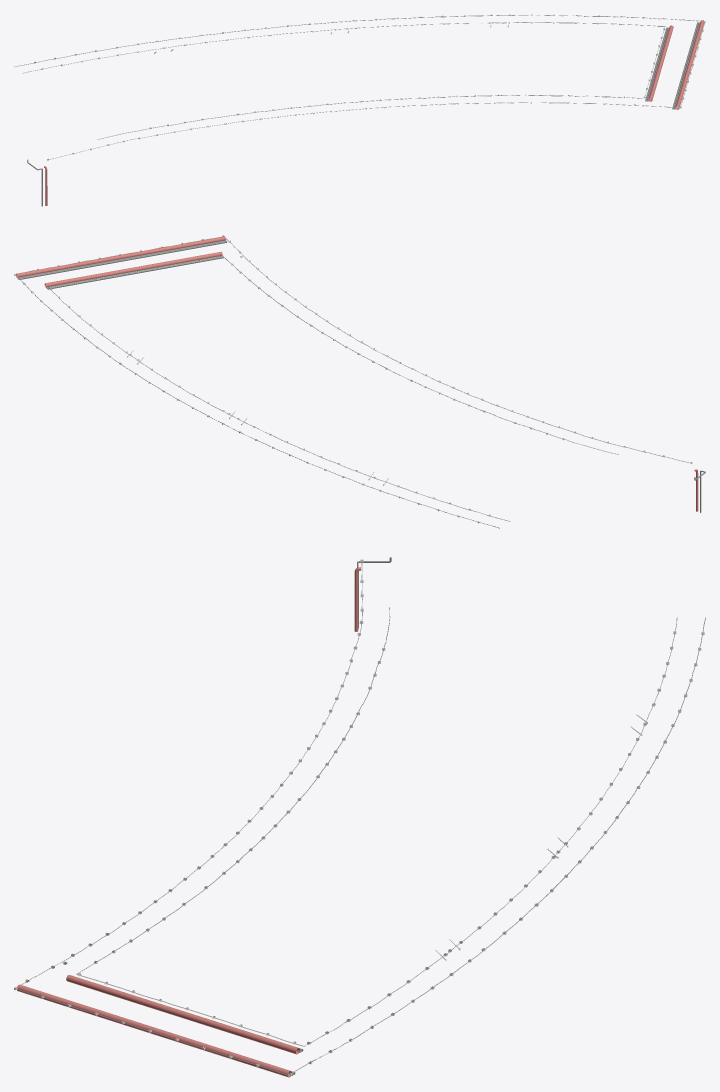
3 renders of one model, top to bottom at view 1: azimuth 30°, elevation 25°; view 2: azimuth 150°, elevation 25°; view 3: azimuth 270°, elevation 25°, orthographic. The views are drawn at different scales.
Visible parts, largest first — view 1: SM_H_Building_FutureTech_Aerospace_02C; view 2: SM_H_Building_FutureTech_Aerospace_02C; view 3: SM_H_Building_FutureTech_Aerospace_02C.
Boxes of the visible parts, x1,y1,x2,y2 form: SM_H_Building_FutureTech_Aerospace_02C: (14, 14, 705, 206); SM_H_Building_FutureTech_Aerospace_02C: (14, 235, 705, 528); SM_H_Building_FutureTech_Aerospace_02C: (14, 557, 705, 1077).
Size of the model in its own units: 2530 by 4534 by 301.
